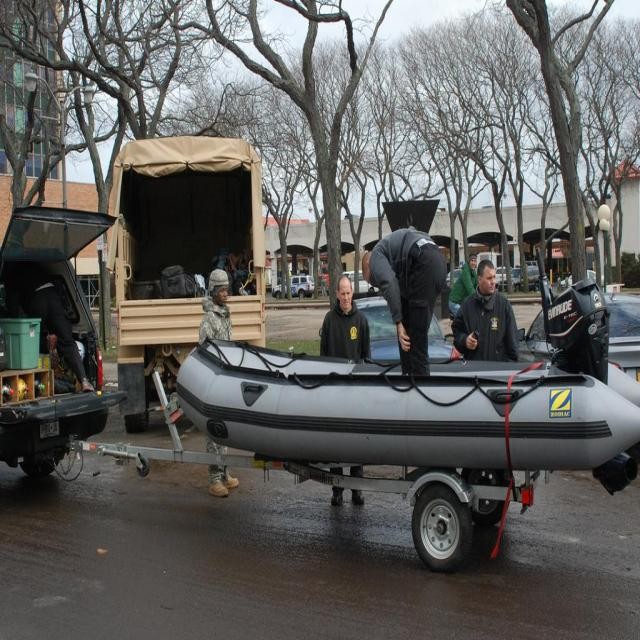car: (2, 179, 113, 496)
